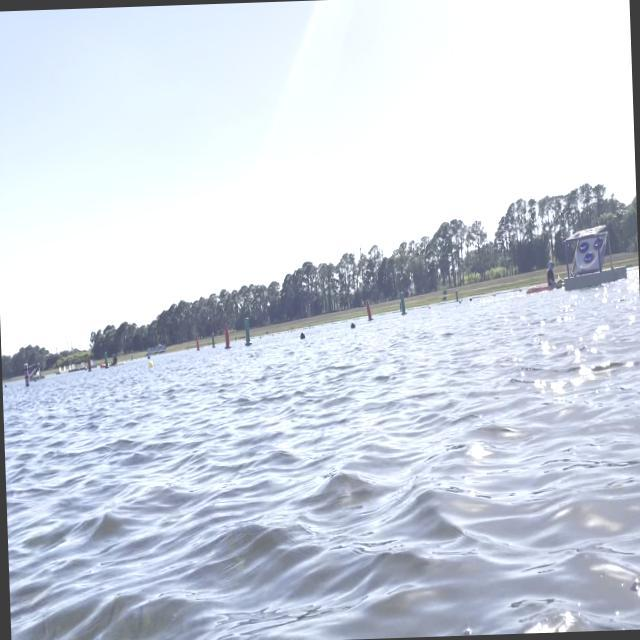buoy: (298, 329, 307, 342), (348, 320, 356, 330), (148, 358, 154, 369)
